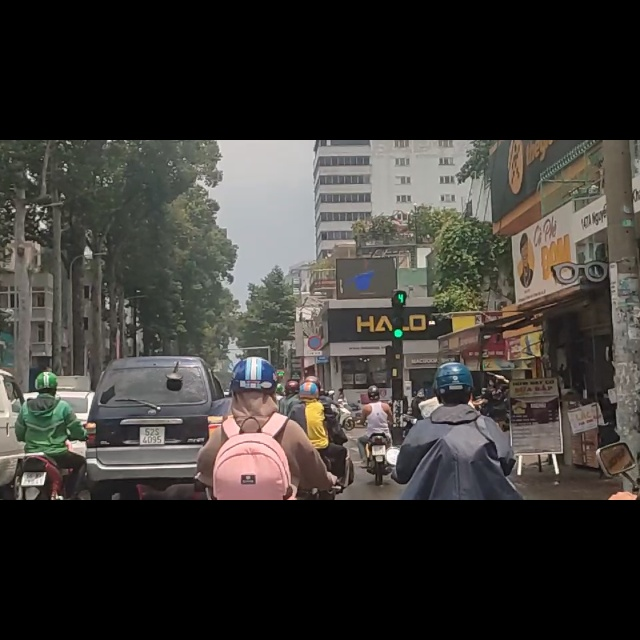bien_cam: (308, 347, 323, 375)
